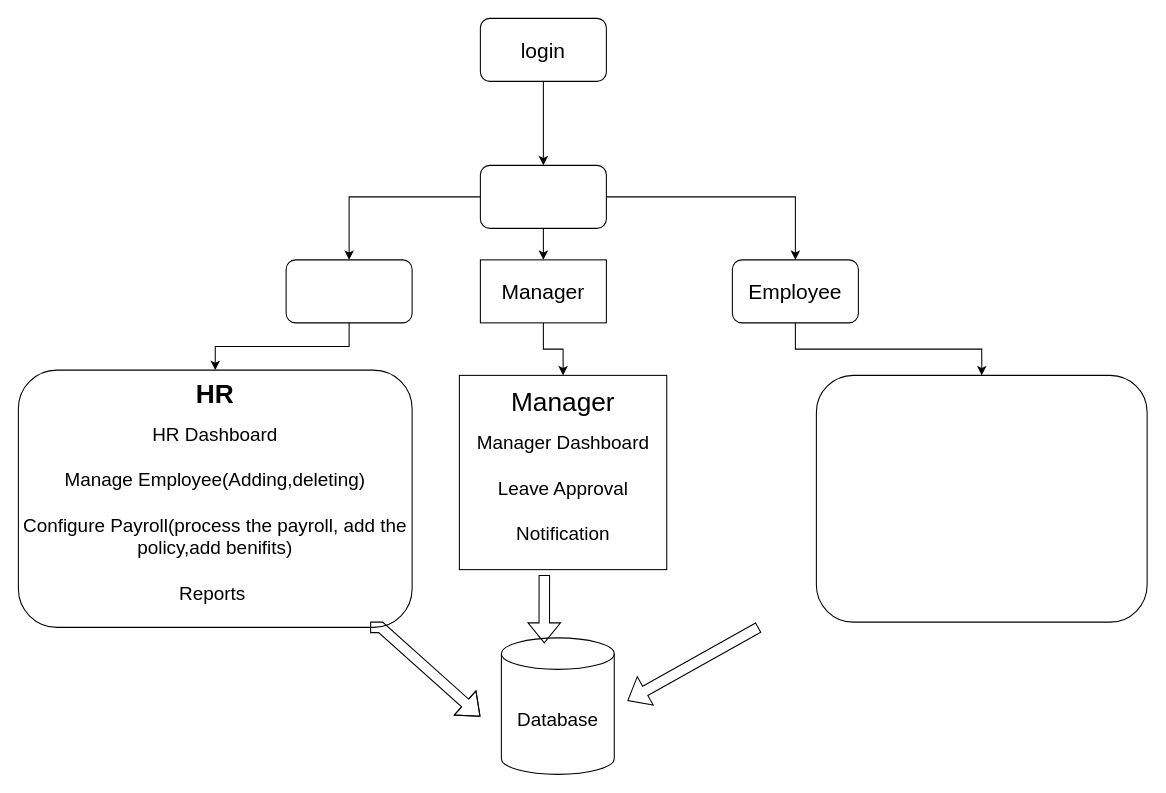
Some shapes in this 1166 by 793 pixel diagram are drawn without their labels. The box of each missing label's shape, as (x1, y1, x2, y2) in pixels:
Employee Employee Dashboard View Payslip Apply Leave Personal Info: (815, 374, 1147, 622)
HR: (285, 259, 412, 323)
Role check: (479, 164, 606, 228)
